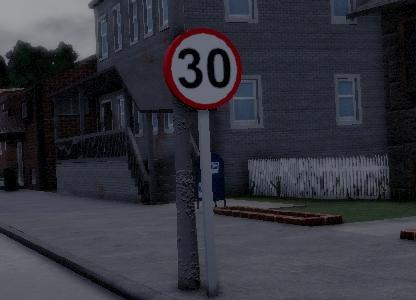Speed_30: (160, 28, 245, 112)
